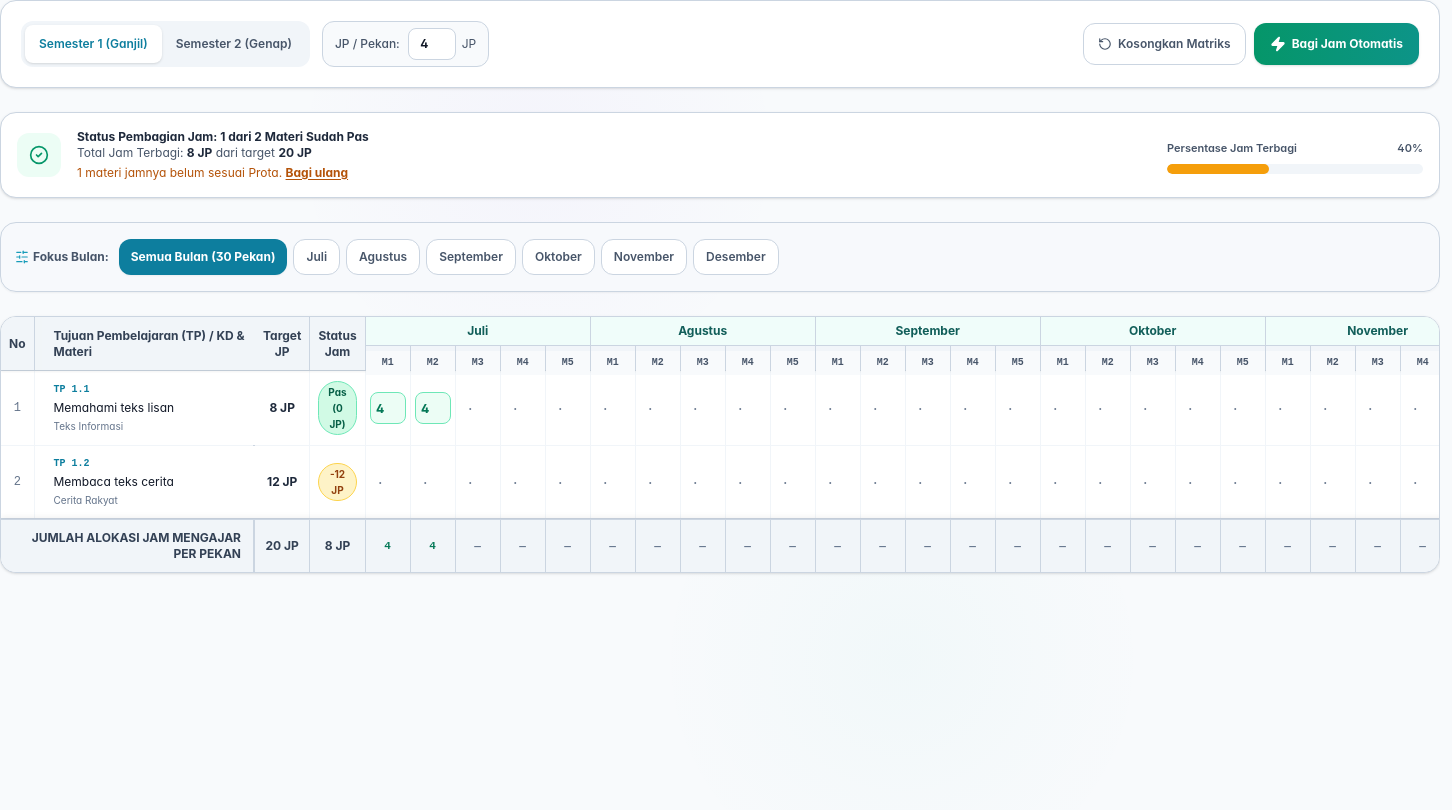
PromesTab Component UX Enhancements › filters table to single month view when a month button is clicked
# Switch to Agustus (monthIndex 1)
Click the button "Agustus".
click(383, 257)  # box 346,239 -> 420,275
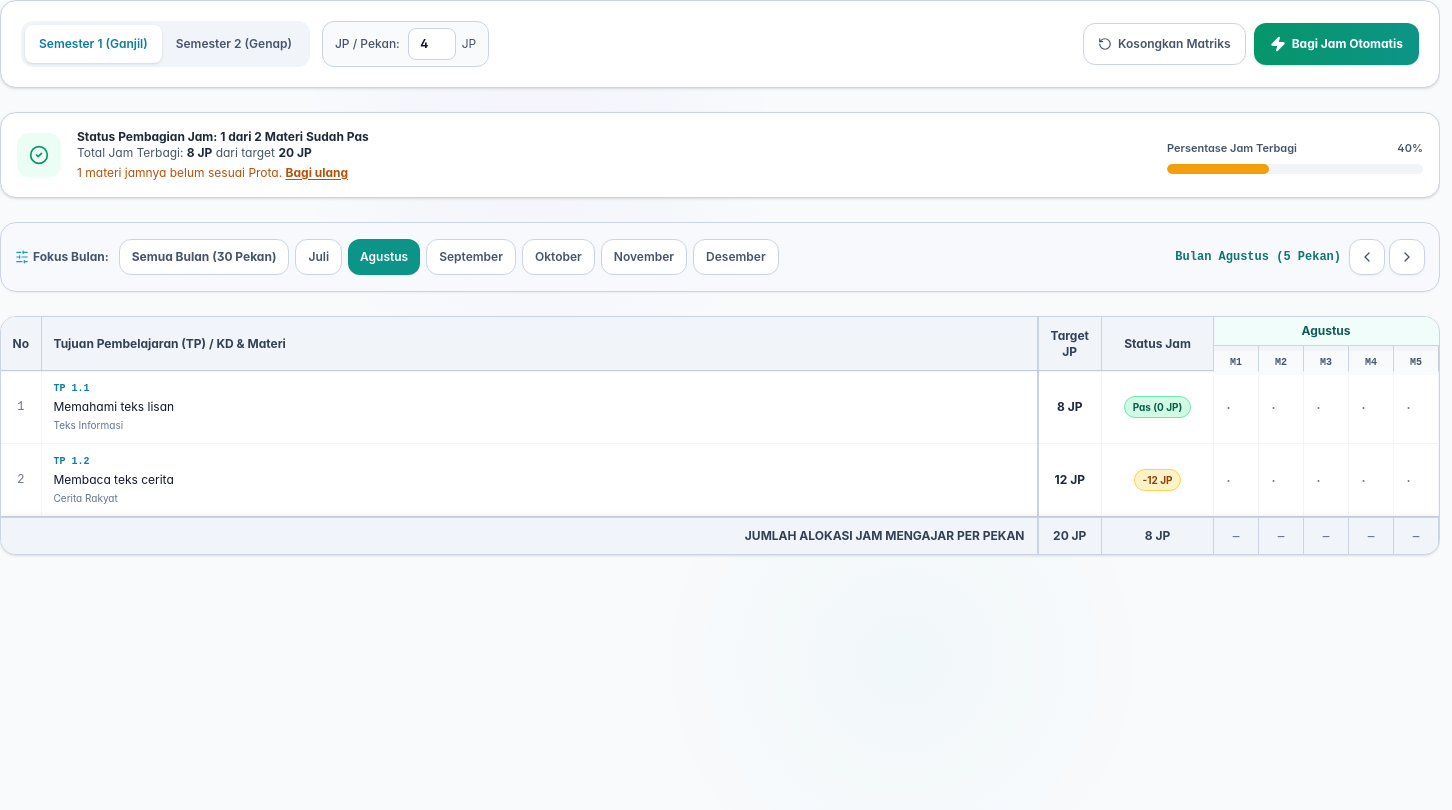
Now the text "Bulan Agustus (5 Pekan)" is shown, box 1175,249 -> 1341,265
Now the button titled "Bulan Sebelumnya" is shown, box 1349,239 -> 1385,275
Now the button titled "Bulan Berikutnya" is shown, box 1389,239 -> 1425,275
